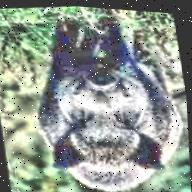boar: (18, 2, 192, 192)
